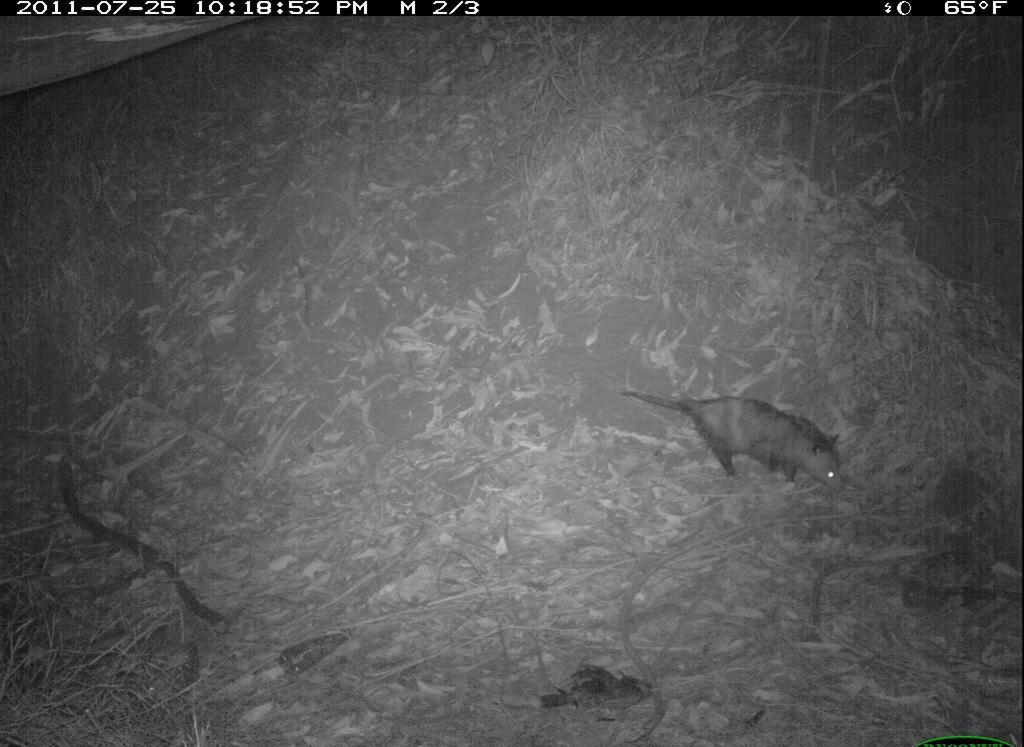opossum: (607, 324, 926, 559)
